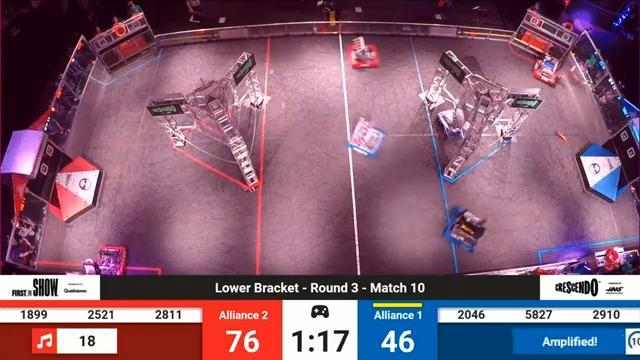robot: (437, 84, 476, 143), (441, 207, 486, 254), (346, 114, 387, 160), (346, 34, 382, 77), (530, 48, 567, 86), (88, 244, 130, 275)
